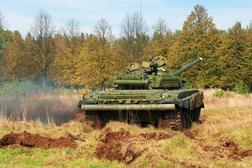t72: (81, 56, 203, 125)
